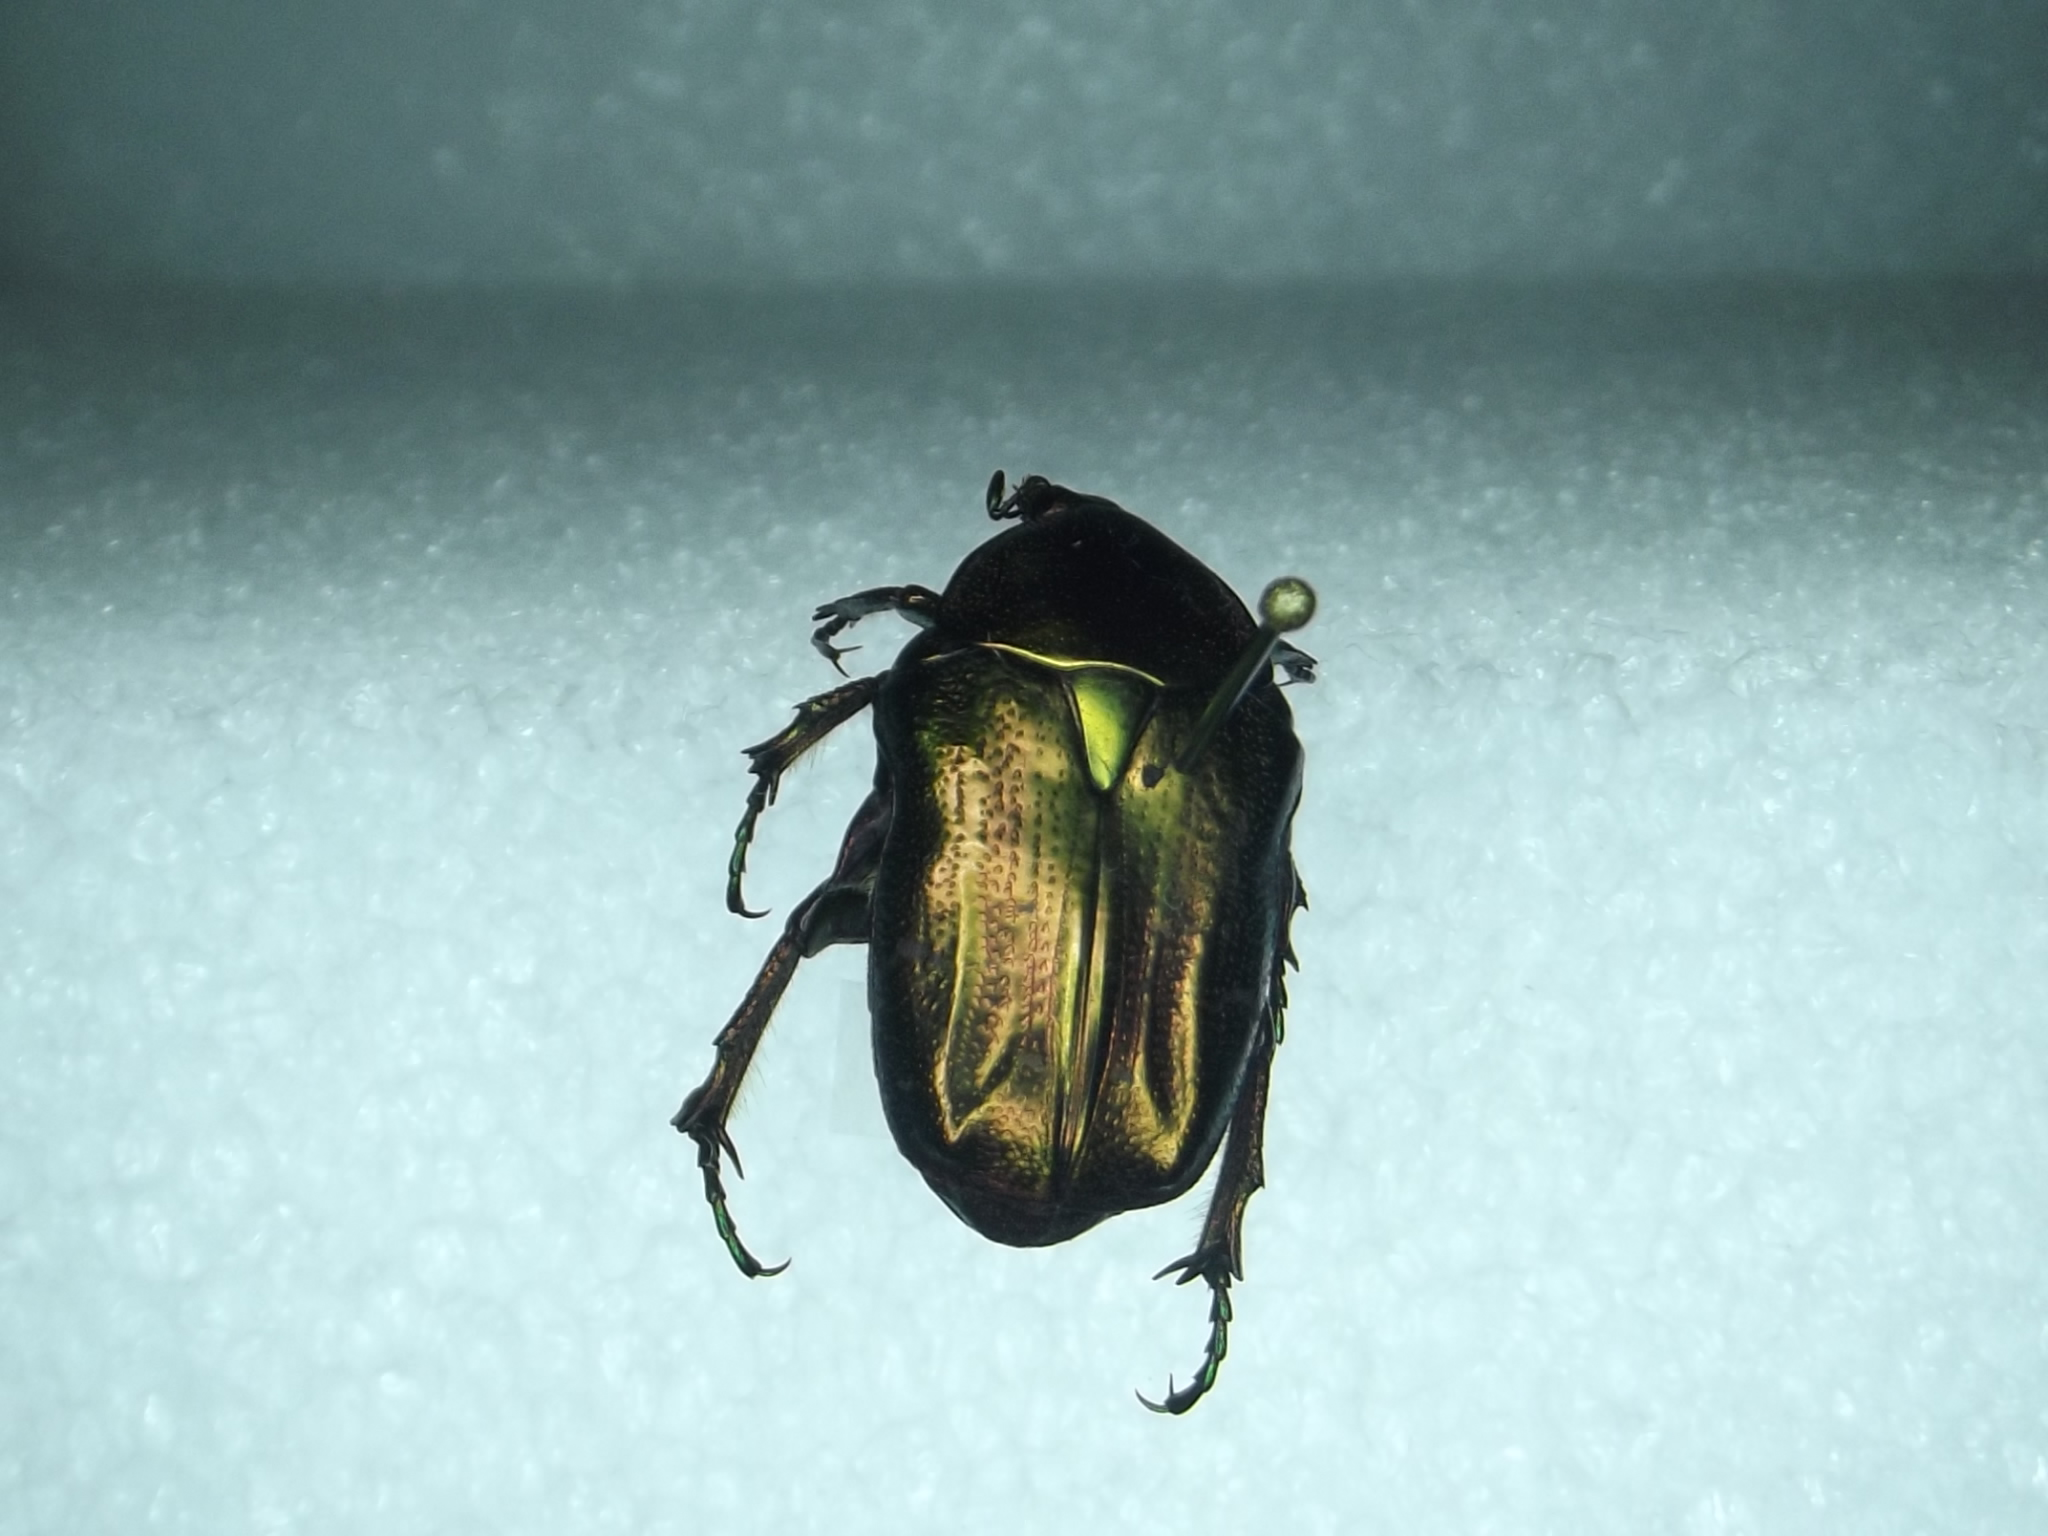Cetonia_aurata: (676, 374, 1326, 1430)
